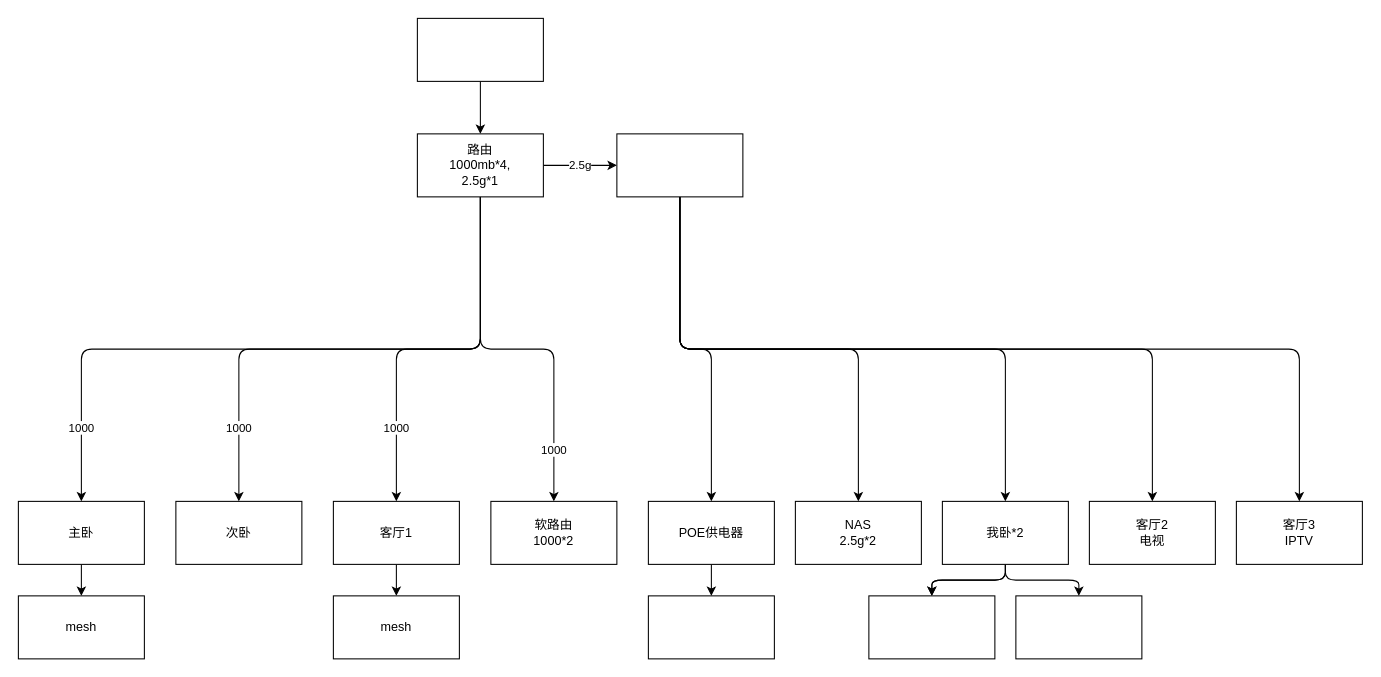
Some shapes in this 1381 by 677 pixel diagram are drawn without their labels. The centre of each missing label's shape, as x and y in pixels:
"交换机 2.5g*8" goes at pixel 679 165.
"光猫" goes at pixel 479 49.
"游戏机" goes at pixel 1078 627.
"电脑" goes at pixel 931 627.
"监控" goes at pixel 710 627.
